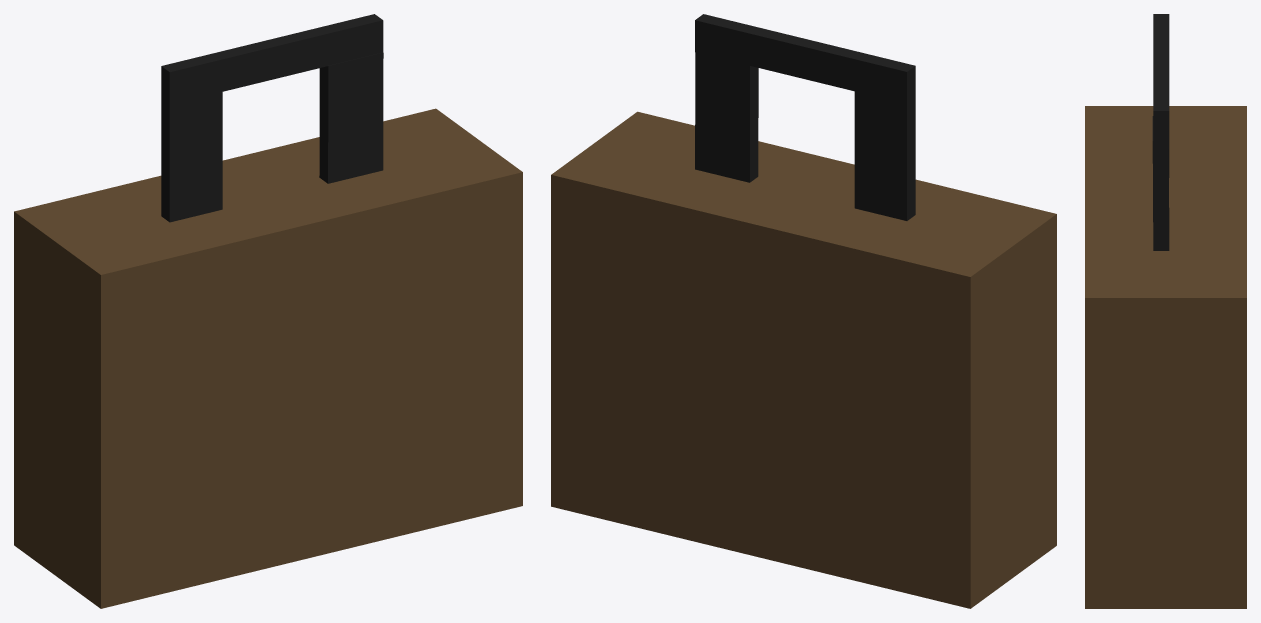
The model's file is secreto4.gltf.
3 renders of one model, left to right at view 1: azimuth 30°, elevation 25°; view 2: azimuth 150°, elevation 25°; view 3: azimuth 270°, elevation 25°, orthographic. The views are drawn at different scales.
Parts seen in each view (by area): view 1: Valija; view 2: Valija; view 3: Valija.
Part boxes in pixels (bbox=[...]): Valija: bbox=[14, 14, 522, 608]; Valija: bbox=[551, 14, 1056, 608]; Valija: bbox=[1085, 14, 1246, 608].
Bounding box in the file's own units: 0.9627 × 1.06 × 0.3432.
